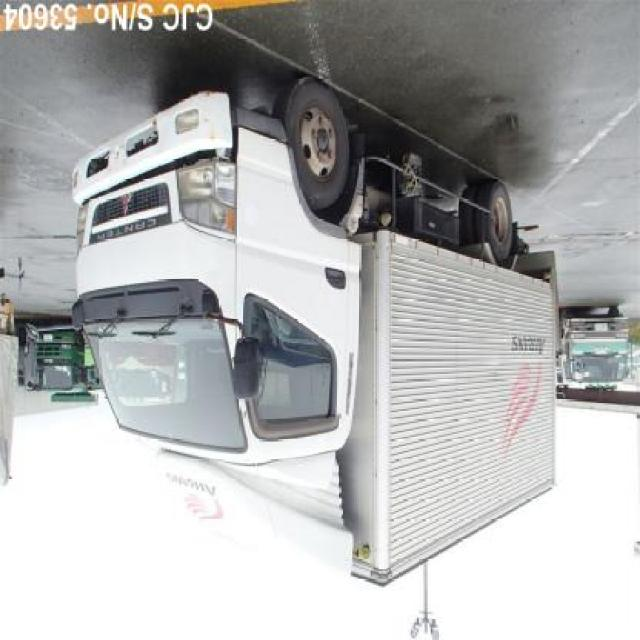truck: (75, 78, 558, 587)
